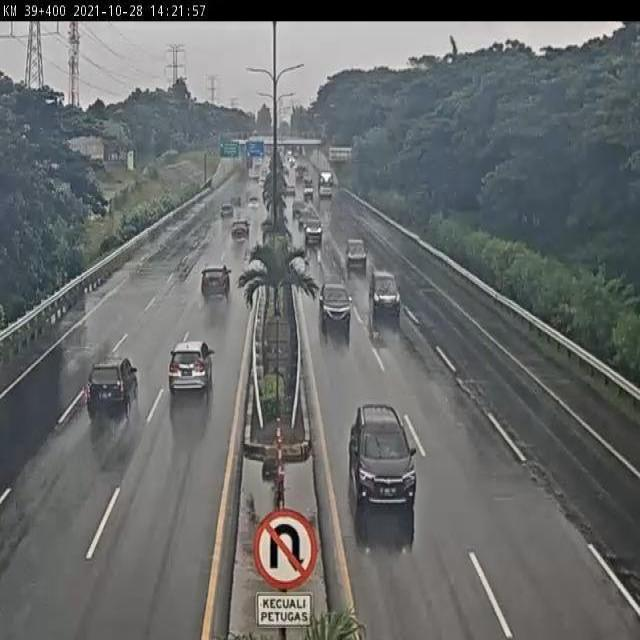ARABA: (346, 401, 419, 511), (84, 353, 141, 423), (167, 337, 217, 396), (319, 278, 352, 330), (370, 268, 402, 315), (199, 263, 232, 300), (345, 239, 369, 272), (305, 216, 324, 245)
